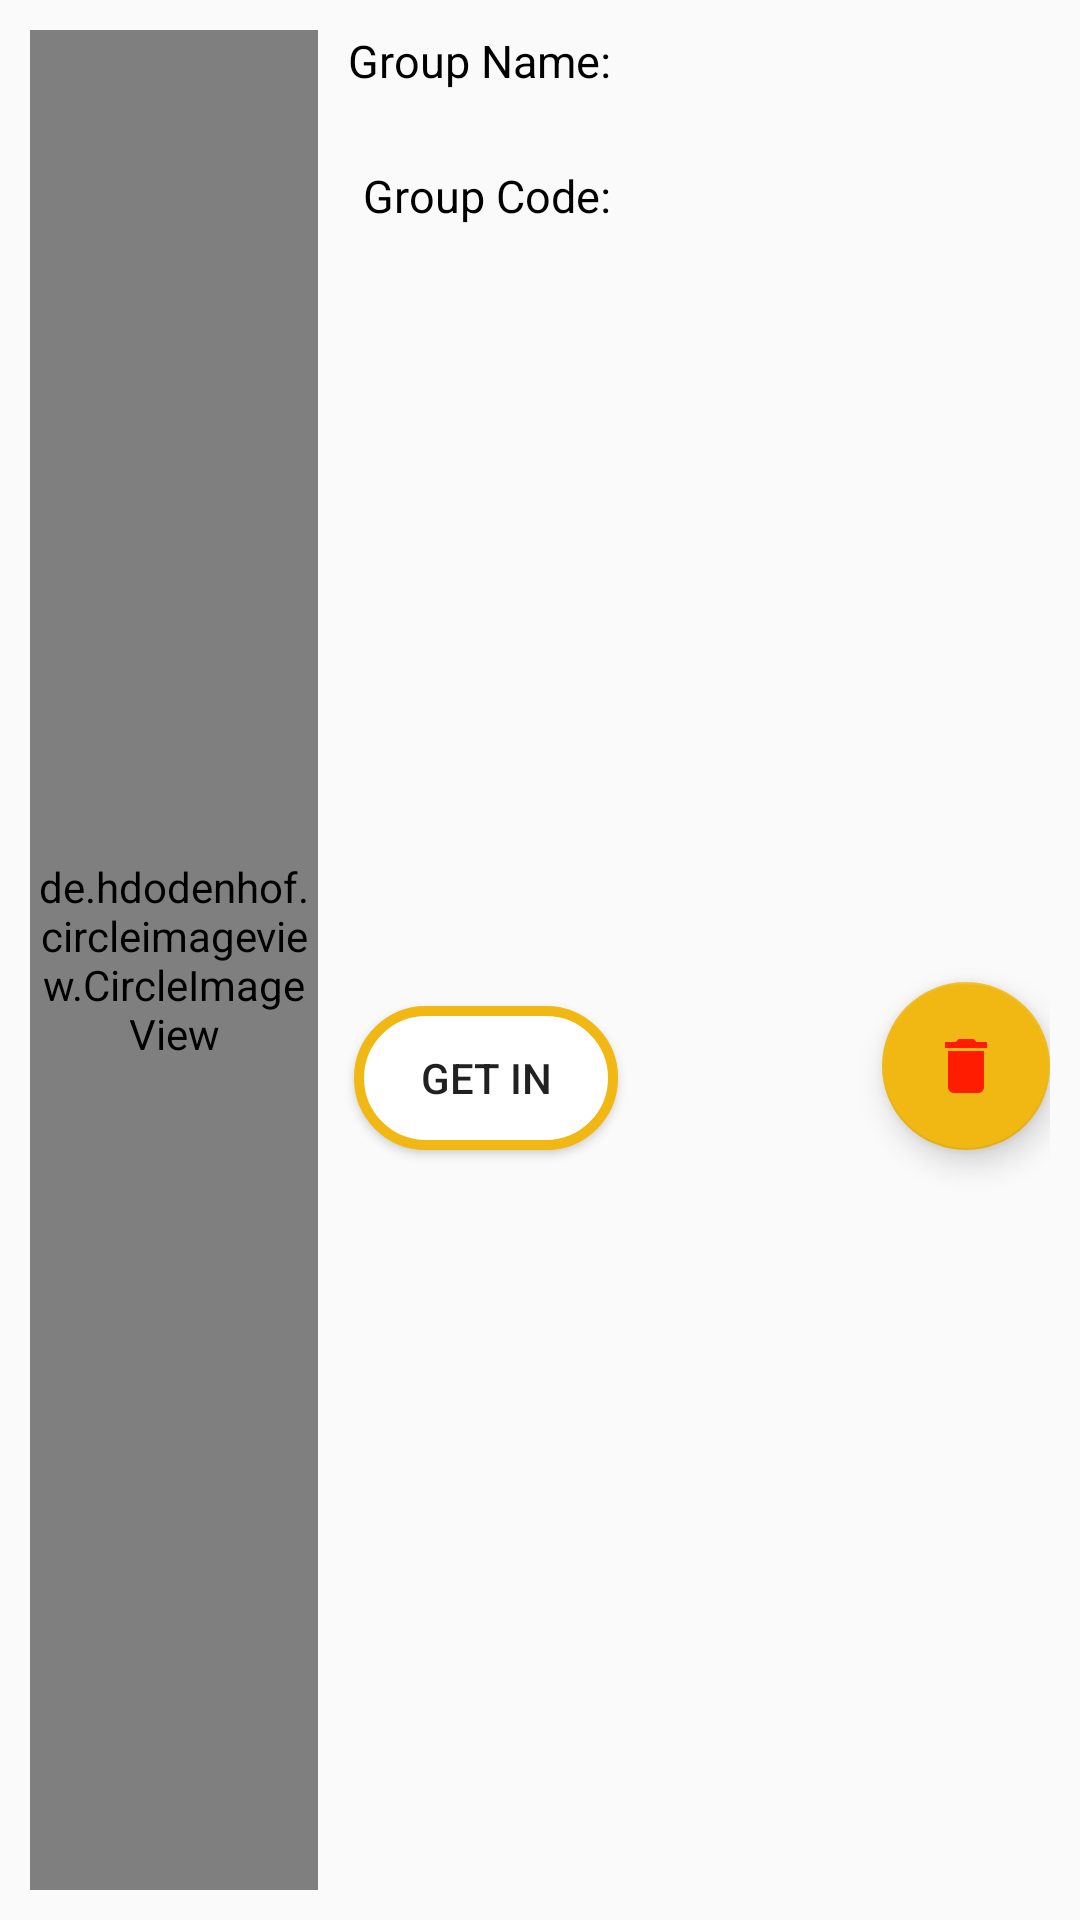

Named icons in this screenshot (1080*1920) and their bounding boxes, BBox(x1, y1, x2, y2):
delete: BBox(882, 982, 1050, 1150)
